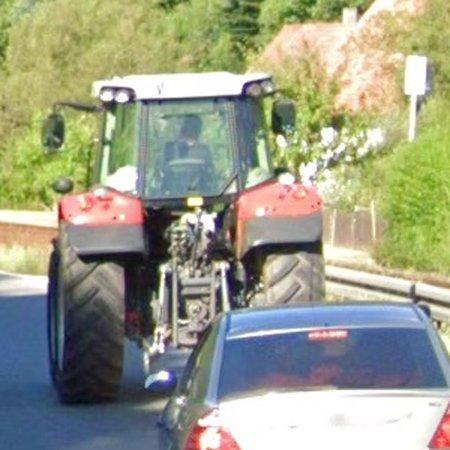tractors: (43, 72, 323, 403)
